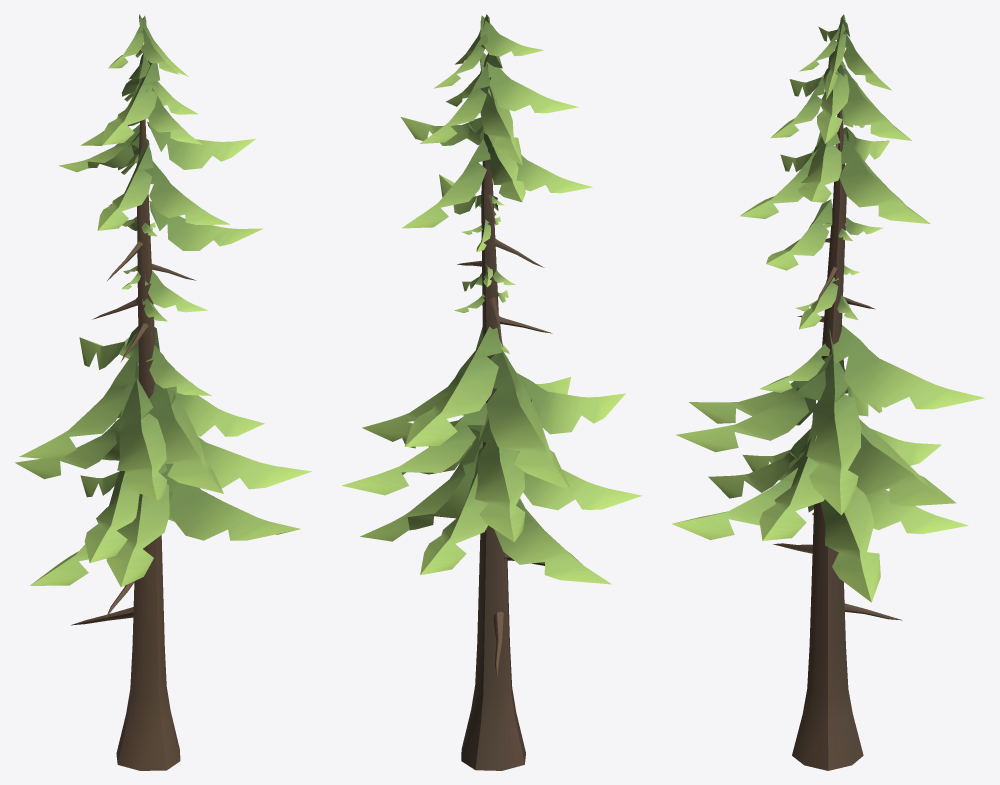
Rendered from Tree03.gltf.
3 renders of one model, left to right at view 1: azimuth 30°, elevation 25°; view 2: azimuth 150°, elevation 25°; view 3: azimuth 270°, elevation 25°, orthographic.
Visible parts, largest first — view 1: default4_Material_0; view 2: default4_Material_0; view 3: default4_Material_0.
Part boxes in pixels (x1,y1,x2,y2): default4_Material_0: (15, 14, 311, 770); default4_Material_0: (341, 14, 642, 770); default4_Material_0: (672, 14, 984, 770).
Bounding box in the file's own units: 2.15 × 6.08 × 2.34.
Materials: 1 (1 with a texture image).
